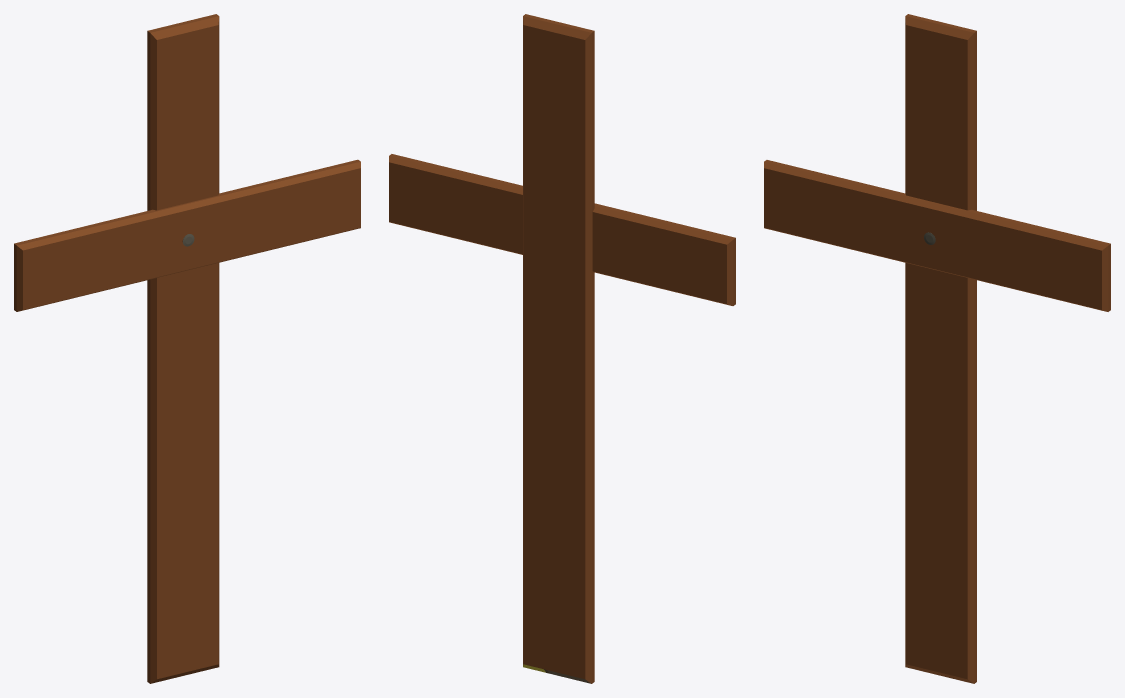
Rendered from cross.gltf.
3 renders of one model, left to right at view 1: azimuth 30°, elevation 25°; view 2: azimuth 150°, elevation 25°; view 3: azimuth 330°, elevation 25°, orthographic.
Visible parts, largest first — view 1: Cross; view 2: Cross; view 3: Cross.
Boxes of the visible parts, left/top/right/bottom form: Cross: left=14, top=14, right=360, bottom=683; Cross: left=389, top=14, right=735, bottom=683; Cross: left=764, top=14, right=1110, bottom=683.
Bounding box in the file's own units: 0.3131 × 0.5661 × 0.0205.
Materials: 1 (1 with a texture image).
